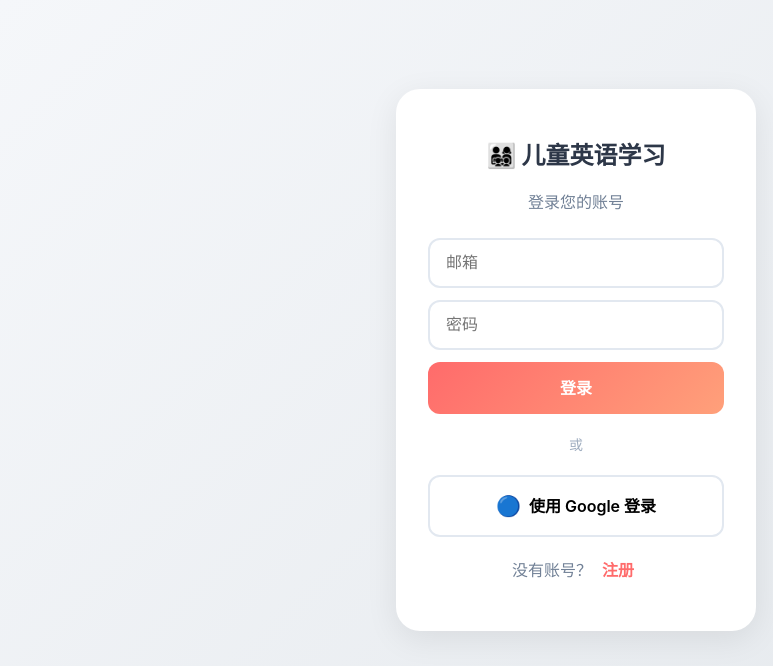
AuthPage › toggles between login and sign up modes
Step 1. Click the button "注册" → point(618, 570), box [596,556,640,582]
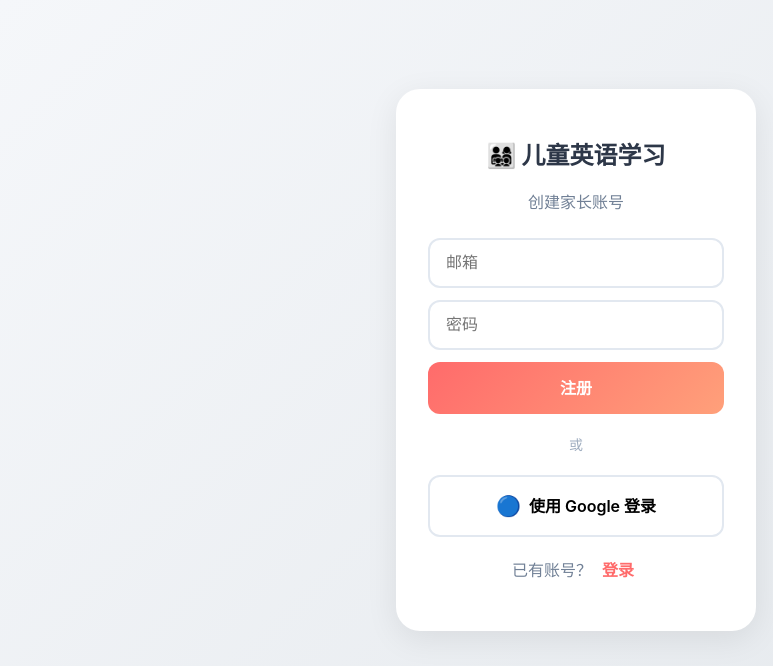
Expected: the button "注册" is shown, [428,362,724,414]
Step 2. Click the button "登录" → point(618, 570), box [596,556,640,582]
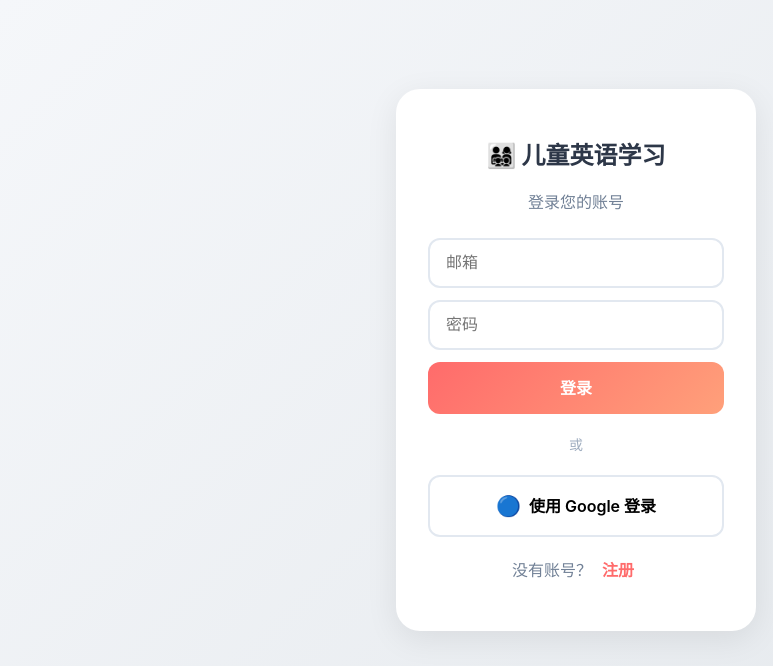
Expected: the button "登录" is shown, [428,362,724,414]
